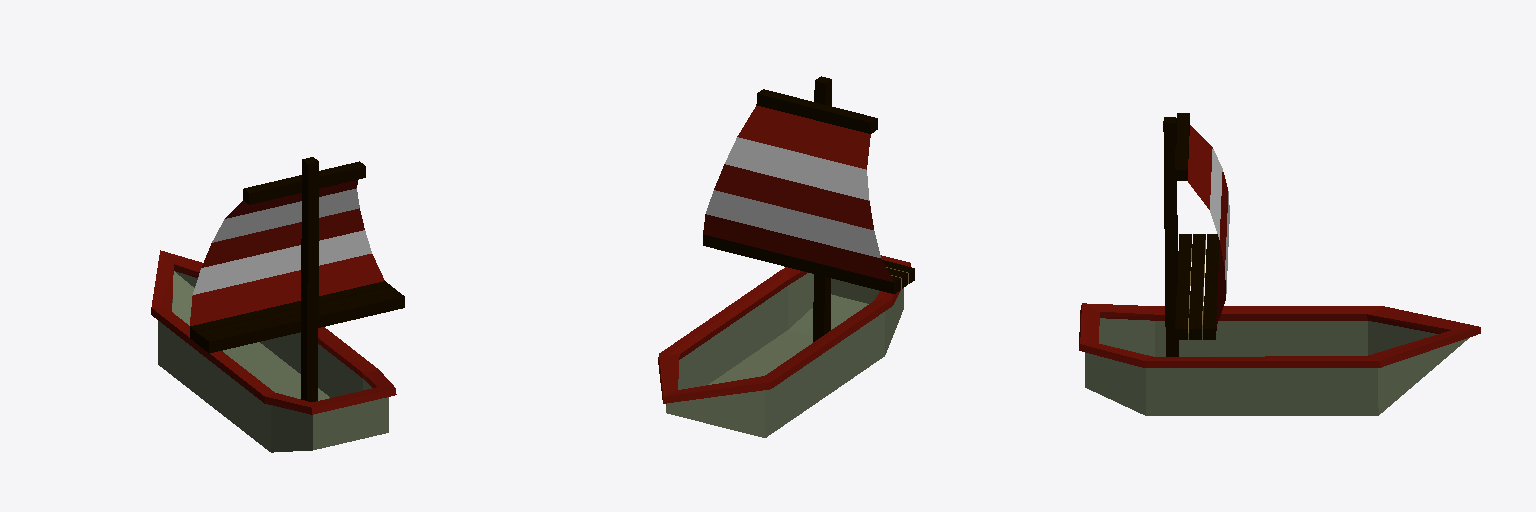
Rendered from boat.obj.
3 renders of one model, left to right at view 1: azimuth 30°, elevation 25°; view 2: azimuth 150°, elevation 25°; view 3: azimuth 270°, elevation 25°, orthographic.
Visible parts, largest first — view 1: Boat_Material.020, Sail_Material.011, Sail_Material.012, Sail_Material.017, Boat_Material.012; view 2: Boat_Material.020, Sail_Material.012, Sail_Material.017, Boat_Material.012, Sail_Material.011; view 3: Boat_Material.020, Boat_Material.012, Sail_Material.011, Sail_Material.012, Sail_Material.017.
Part boxes in pixels (left/top/right/bottom): Boat_Material.020: left=158, top=271, right=388, bottom=452; Sail_Material.011: left=190, top=157, right=404, bottom=401; Sail_Material.012: left=190, top=180, right=384, bottom=325; Sail_Material.017: left=193, top=188, right=371, bottom=294; Boat_Material.012: left=151, top=250, right=396, bottom=414; Boat_Material.020: left=666, top=273, right=903, bottom=437; Sail_Material.012: left=703, top=105, right=893, bottom=281; Sail_Material.017: left=706, top=137, right=880, bottom=257; Boat_Material.012: left=658, top=255, right=910, bottom=403; Sail_Material.011: left=703, top=76, right=914, bottom=341; Boat_Material.020: left=1085, top=318, right=1468, bottom=415; Boat_Material.012: left=1079, top=303, right=1480, bottom=367; Sail_Material.011: left=1163, top=113, right=1219, bottom=356; Sail_Material.012: left=1188, top=125, right=1227, bottom=326; Sail_Material.017: left=1210, top=149, right=1229, bottom=293.
Size of the model in its own units: 1.04 by 1.4 by 1.88.